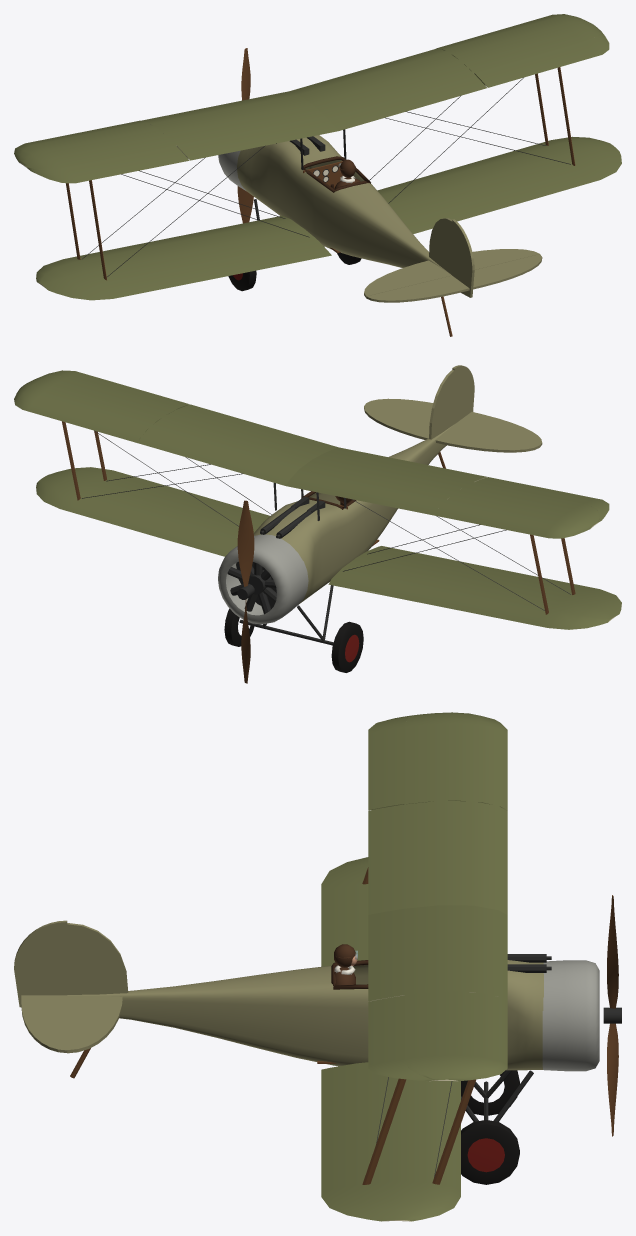
File: sopwith_camel.glb
3 views of the same model, one above another, from view 1: azimuth 30°, elevation 25°; view 2: azimuth 150°, elevation 25°; view 3: azimuth 270°, elevation 25° (orthographic). The views are drawn at different scales.
Parts seen in each view (by area): view 1: Wing_Lower_L, Wing_Upper_R, Wing_Upper_L, Fuselage, Wing_Lower_R, Elevator, Aileron_R, Aileron_L, Wires, Struts, Stabilizer_L, Rudder (+6 smaller); view 2: Wing_Upper_R, Wing_Upper_L, Wing_Lower_L, Wing_Lower_R, Fuselage, Cowling, Elevator, Wheels, PropBlades, Stabilizer_L, Struts, Stabilizer_R (+8 smaller); view 3: Wing_Upper_L, Wing_Upper_R, Fuselage, Wing_Lower_R, Cowling, Wing_Lower_L, Wheels, Fin, Rudder, Aileron_L, Aileron_R, Stabilizer_R (+6 smaller).
Part boxes in pixels (x1,y1,x2,y2): Wing_Lower_L: (36,215,331,300); Wing_Upper_R: (290,14,599,130); Wing_Upper_L: (14,91,338,169); Fuselage: (237,135,450,274); Wing_Lower_R: (377,136,621,234); Elevator: (366,254,542,302); Aileron_R: (474,29,609,87); Aileron_L: (28,146,189,183); Wires: (82,77,570,277); Struts: (66,67,575,280); Stabilizer_L: (364,260,451,298); Rudder: (452,219,474,297); Wing_Upper_R: (14,375,338,485); Wing_Upper_L: (286,447,599,538); Wing_Lower_L: (328,546,621,629); Wing_Lower_R: (36,467,269,556); Fuselage: (241,425,452,604); Cowling: (218,534,308,624); Elevator: (367,398,542,446); Wheels: (224,608,363,672); PropBlades: (237,500,254,683); Stabilizer_L: (435,424,539,452); Struts: (62,421,575,614); Stabilizer_R: (364,403,430,439); Wing_Upper_L: (368,712,507,914); Wing_Upper_R: (368,905,507,1081); Fuselage: (67,960,543,1070); Wing_Lower_R: (321,1062,460,1221); Cowling: (542,960,599,1071); Wing_Lower_L: (321,857,368,966); Wheels: (461,1070,519,1184); Fin: (67,923,128,994); Rudder: (14,920,67,1007); Aileron_L: (368,714,417,810); Aileron_R: (368,995,435,1081); Stabilizer_R: (67,995,122,1053).
Size of the model in its own units: 8.53 by 2.81 by 5.98.
